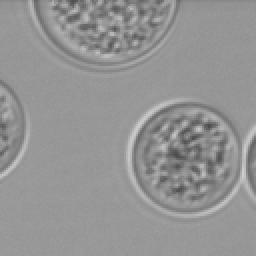picoshell: (128, 98, 243, 216), (28, 0, 178, 70), (0, 80, 28, 178), (242, 124, 254, 204)
